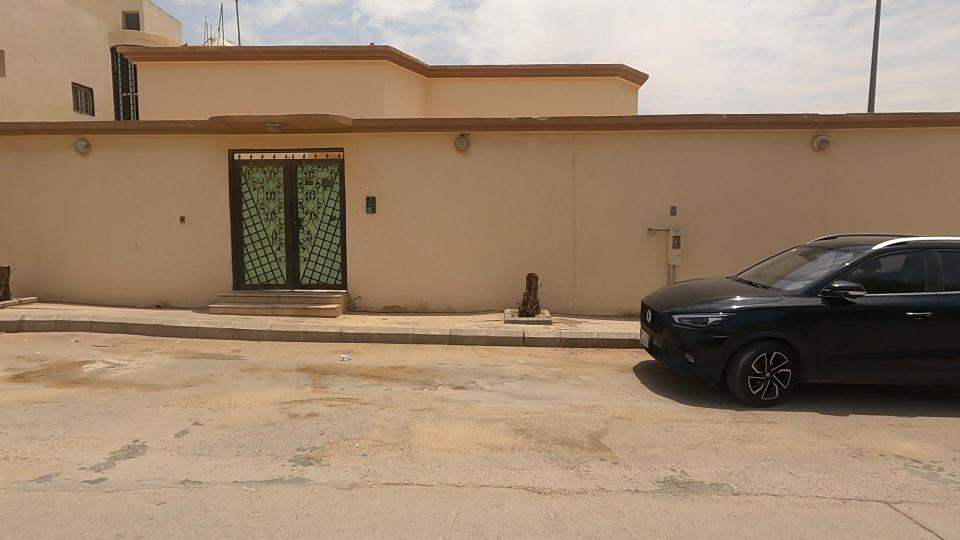GARBAGE: (312, 324, 380, 393)
